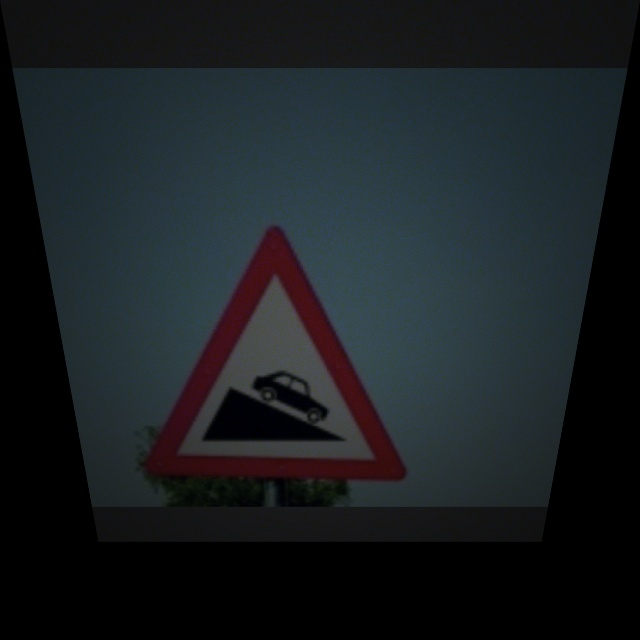Steep_Descent: (116, 230, 419, 477)
